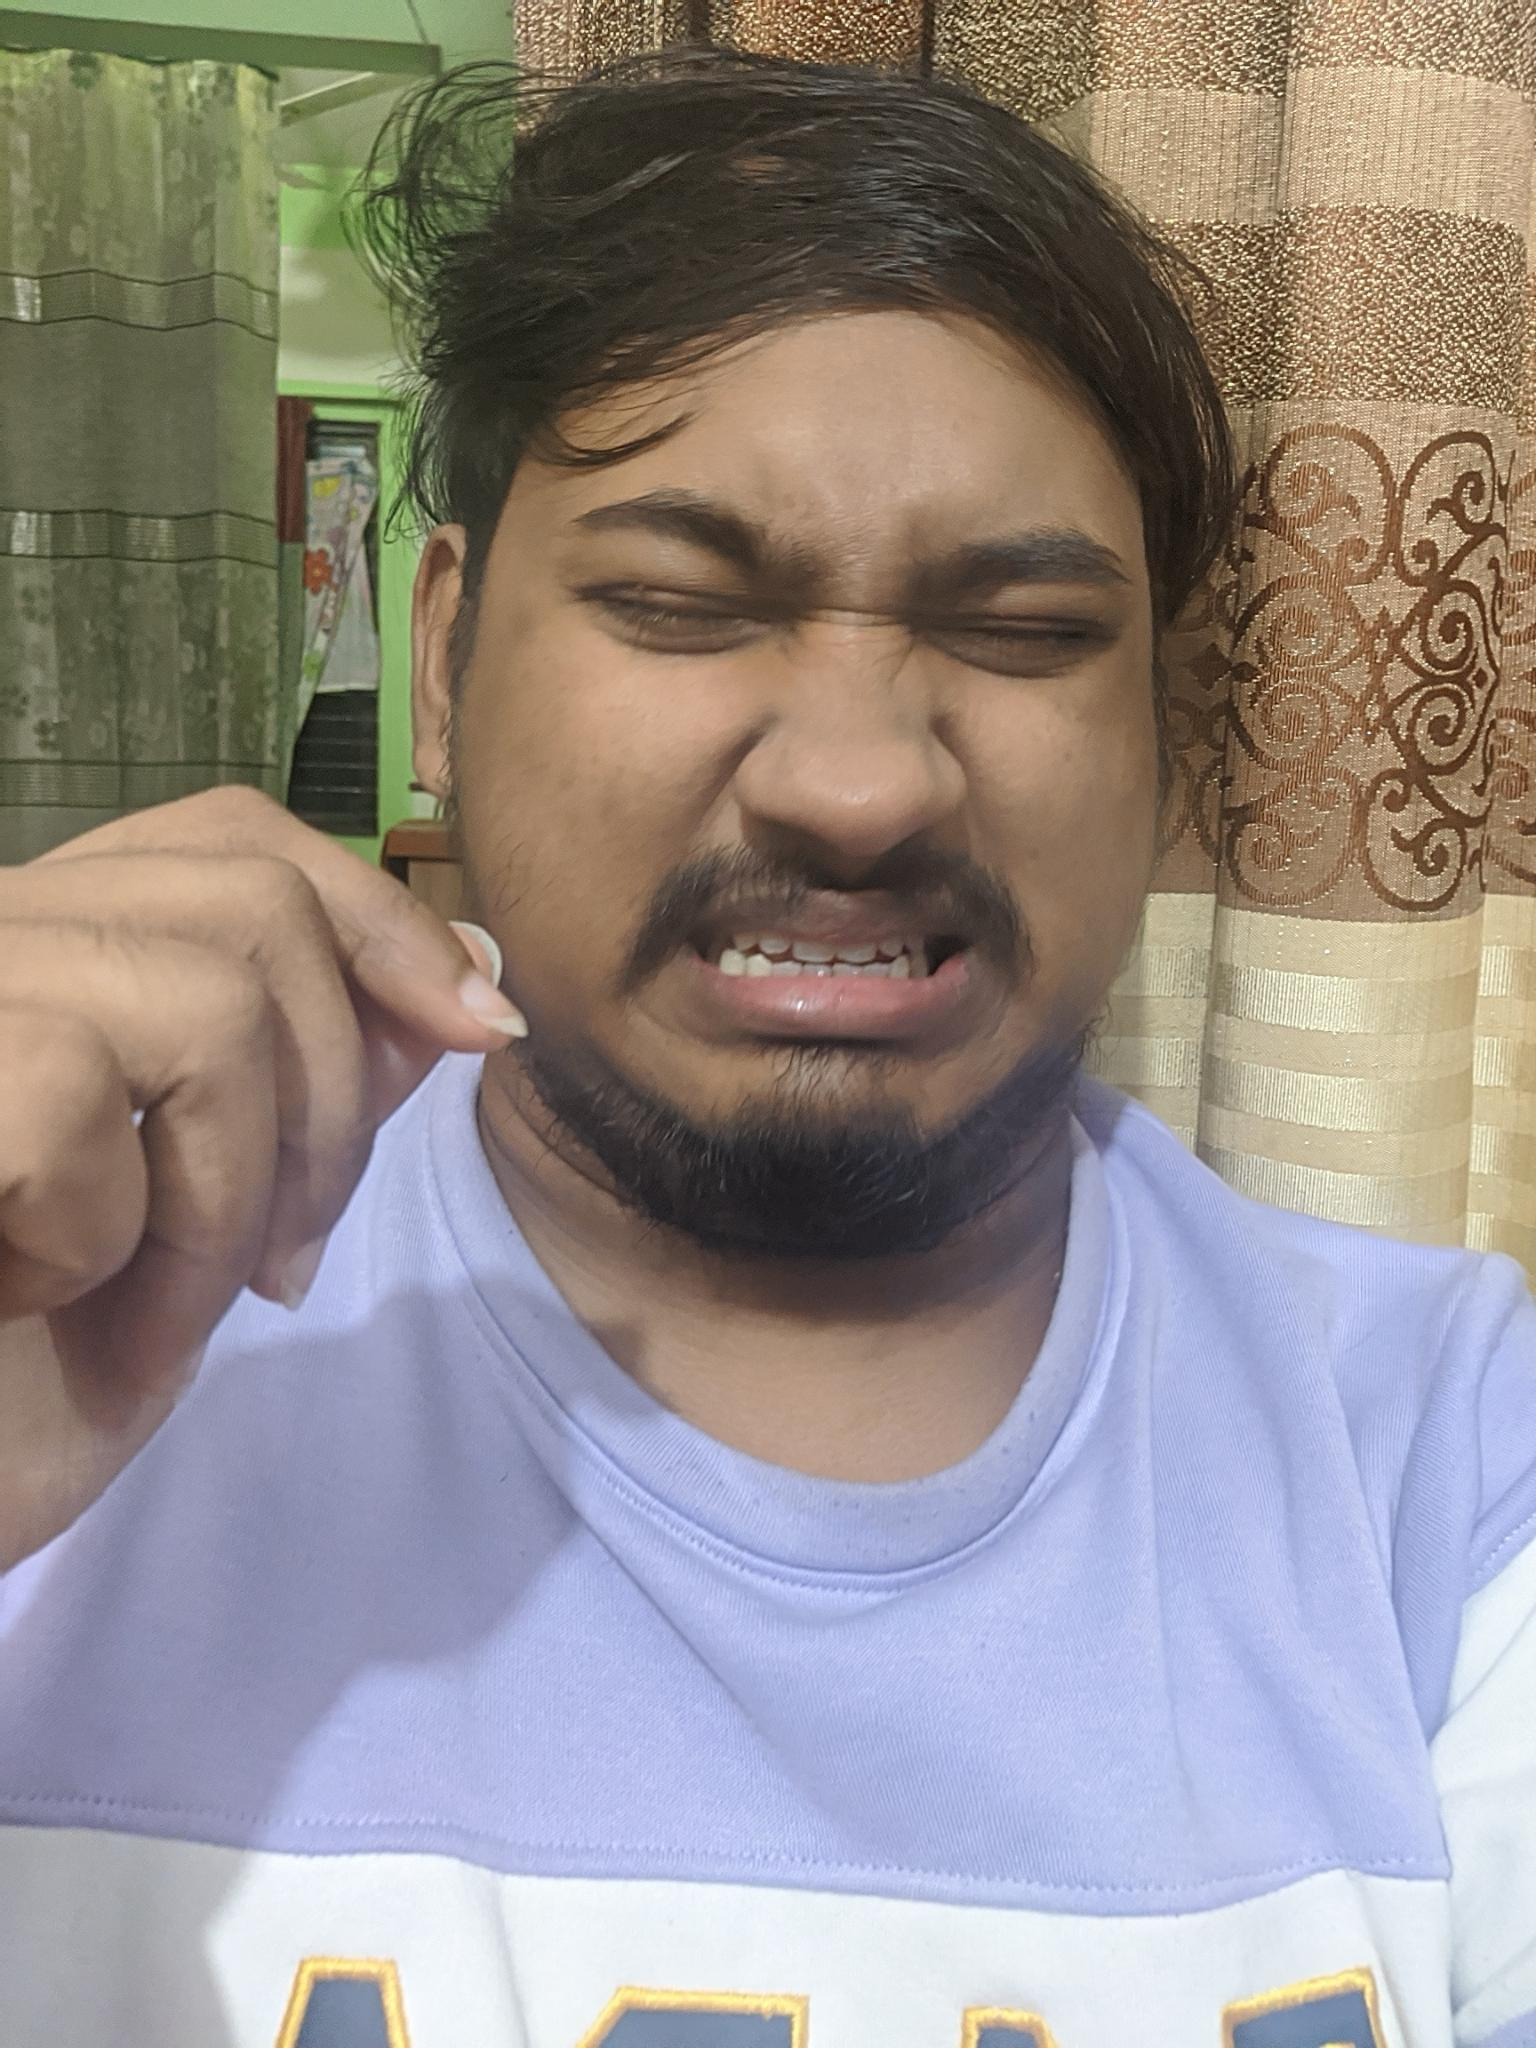Disgust: (531, 384, 1170, 1195)
